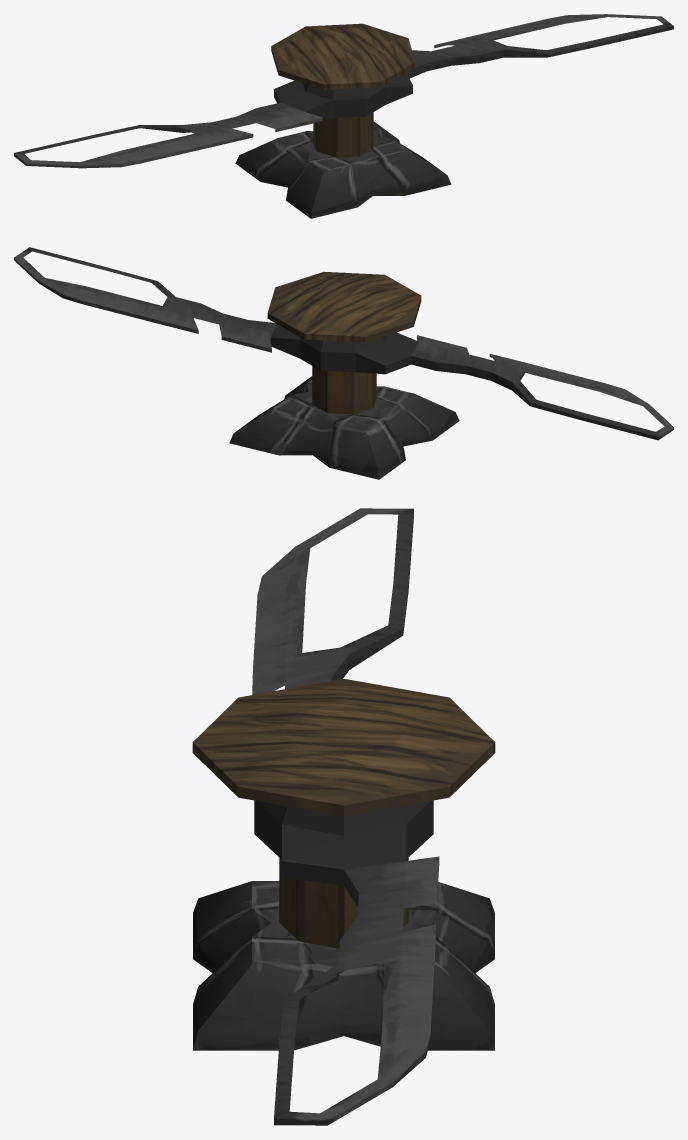
File: BladeSPinner.FBX
The picture shows the model from 3 angles, top to bottom: view 1: azimuth 30°, elevation 25°; view 2: azimuth 150°, elevation 25°; view 3: azimuth 270°, elevation 25°; orthographic projection. The views are drawn at different scales.
Parts seen in each view (by area): view 1: Standard, Blades; view 2: Standard, Blades; view 3: Standard, Blades.
Part boxes in pixels (x1=…): Standard: x1=235, y1=23, x2=451, y2=218; Blades: x1=14, y1=14, x2=673, y2=168; Standard: x1=229, y1=271, x2=459, y2=479; Blades: x1=14, y1=247, x2=673, y2=440; Standard: x1=192, y1=678, x2=495, y2=1050; Blades: x1=252, y1=508, x2=439, y2=1125.
Size of the model in its own units: 2.82 by 0.5413 by 0.5896.
